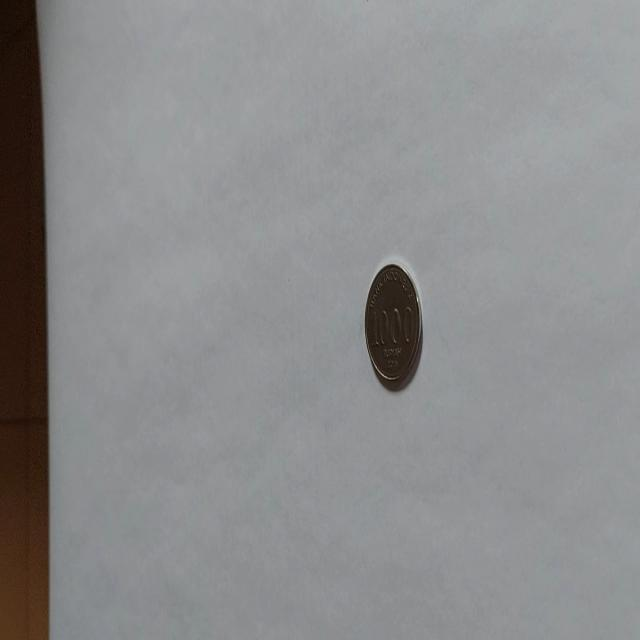seribu rupiah koin: (363, 260, 423, 392)
